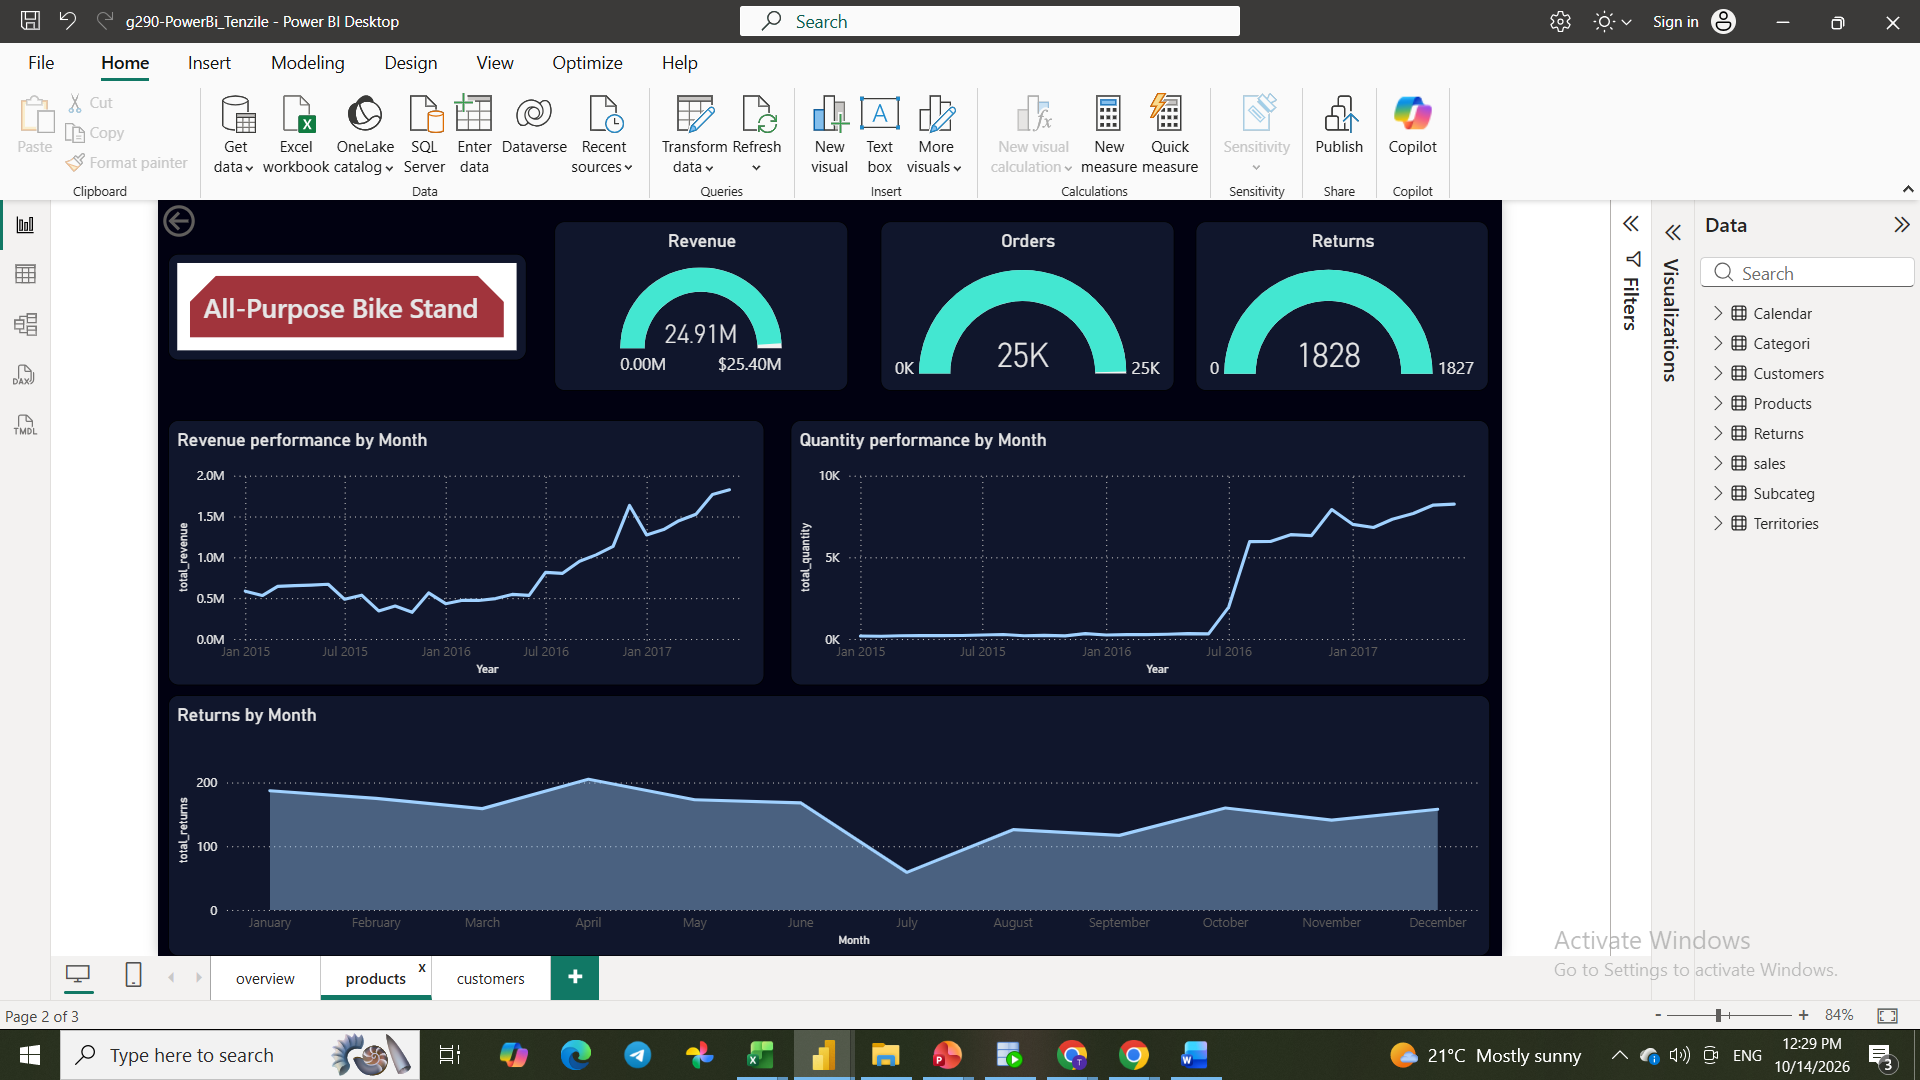

This screenshot's page, from the dashboard's own definition file:
{"tool":"powerbi","page":{"name":"products","canvas":[1280,720],"ordinal":1},"visuals":[{"type":"gauge","title":"Revenue","fields":{"MaxValue":["sales.target_revenue"],"Y":["sales.total_revenue"]},"box":[376.9,20.5,279.9,161.7],"z":0},{"type":"gauge","title":"Orders","fields":{"MaxValue":["sales.order_target"],"Y":["Returns.total_orders"]},"box":[688.5,20.5,279.9,161.7],"z":1000},{"type":"gauge","title":"Returns","fields":{"MaxValue":["Returns.target_returns"],"Y":["Returns.total_returns"]},"box":[988.5,20.5,279.5,161.5],"z":2000},{"type":"lineChart","title":"Revenue performance by Month","fields":{"Y":["sales.total_revenue"],"Category":["Calendar.Start of Month.Variation.Date Hierarchy.Year","Calendar.Start of Month.Variation.Date Hierarchy.Quarter","Calendar.Start of Month.Variation.Date Hierarchy.Month","Calendar.Start of Month.Variation.Date Hierarchy.Day"]},"box":[9,209,567.9,252.6],"z":3000},{"type":"lineChart","title":"Quantity performance by Month","fields":{"Y":["sales.total_quantity"],"Category":["Calendar.Start of Month.Variation.Date Hierarchy.Year","Calendar.Start of Month.Variation.Date Hierarchy.Quarter","Calendar.Start of Month.Variation.Date Hierarchy.Month","Calendar.Start of Month.Variation.Date Hierarchy.Day"]},"box":[602.6,209,665.4,252.6],"z":4000},{"type":"cardVisual","fields":{"Data":["Min(Products.ProductName)"]},"box":[9.3,50.7,341.3,101.3],"z":5000},{"type":"actionButton","box":[0,0,100,40],"z":6000},{"type":"areaChart","title":"Returns by Month","fields":{"Category":["Calendar.Start of Week.Variation.Date Hierarchy.Month","Calendar.Start of Week.Variation.Date Hierarchy.Day"],"Y":["Returns.total_returns"]},"box":[9,471.8,1259,248.7],"z":7000}]}

Visuals, with their boxes on the page's 1280x720 design canvas (x1, y1, x2, y2). These are canvas units, not pixel positions in the 1920x1080 screenshot, which may show the page scaled, cropped or inside an application window:
"Revenue" gauge: {"left": 377, "top": 20, "right": 657, "bottom": 182}
"Orders" gauge: {"left": 688, "top": 20, "right": 968, "bottom": 182}
"Returns" gauge: {"left": 988, "top": 20, "right": 1268, "bottom": 182}
"Revenue performance by Month" lineChart: {"left": 9, "top": 209, "right": 577, "bottom": 462}
"Quantity performance by Month" lineChart: {"left": 603, "top": 209, "right": 1268, "bottom": 462}
cardVisual - Min(Products.ProductName): {"left": 9, "top": 51, "right": 351, "bottom": 152}
actionButton: {"left": 0, "top": 0, "right": 100, "bottom": 40}
"Returns by Month" areaChart: {"left": 9, "top": 472, "right": 1268, "bottom": 720}
